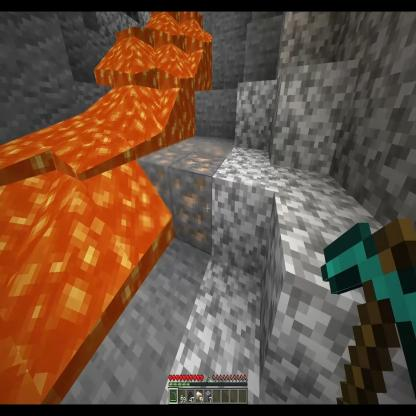iron ore: (169, 151, 224, 256), (136, 147, 188, 243), (196, 143, 232, 158), (168, 140, 201, 151)
